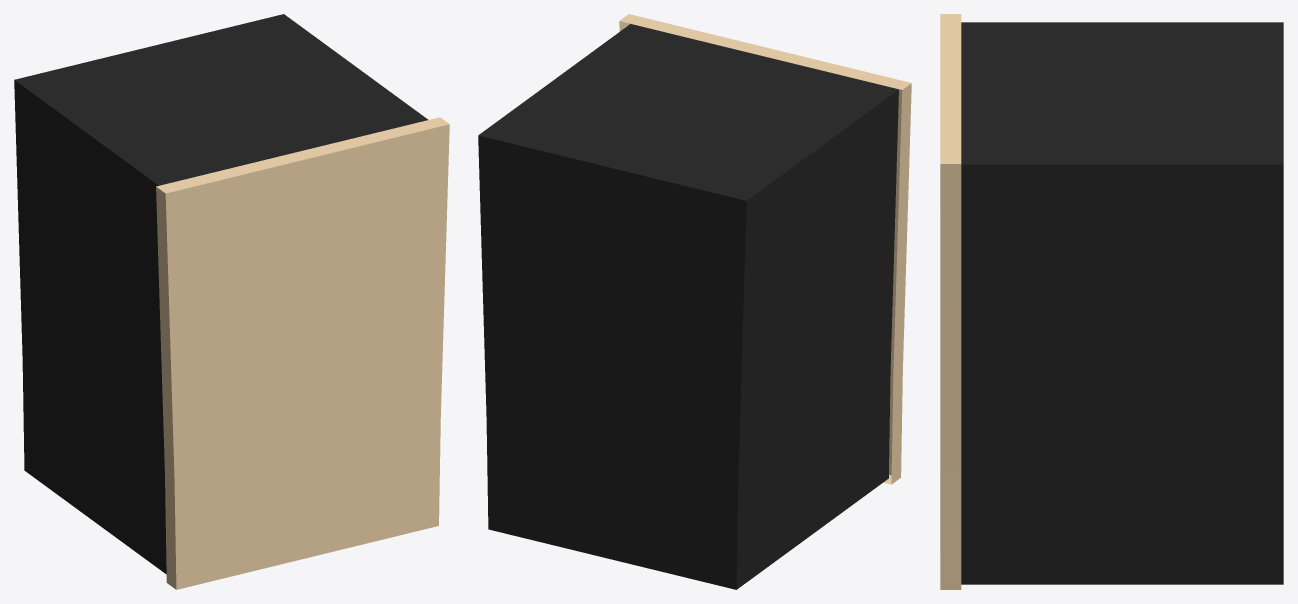
Rendered from bedside table 4.fbx.
3 views of the same model, side by side, from view 1: azimuth 30°, elevation 25°; view 2: azimuth 150°, elevation 25°; view 3: azimuth 270°, elevation 25° (orthographic). The views are drawn at different scales.
Parts seen in each view (by area): view 1: bedside table 4; view 2: bedside table 4; view 3: bedside table 4.
Boxes of the visible parts, <box> form: bedside table 4: <box>14,14,449,589</box>; bedside table 4: <box>478,14,911,589</box>; bedside table 4: <box>940,14,1283,589</box>.
Bounding box in the file's own units: 173 × 232 × 168.
